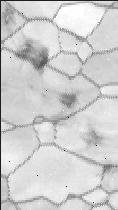good_void: (8, 34, 50, 78), (52, 86, 81, 111), (77, 125, 102, 148), (0, 0, 19, 30), (98, 159, 112, 175)
